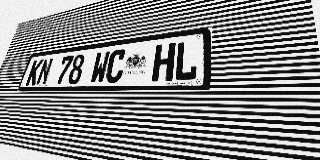7: (54, 55, 74, 85)
8: (66, 54, 87, 84)
C: (104, 49, 127, 83)
H: (151, 42, 176, 82)
K: (25, 59, 44, 86)
L: (173, 40, 199, 81)
N: (35, 58, 54, 85)
W: (89, 51, 111, 84)
